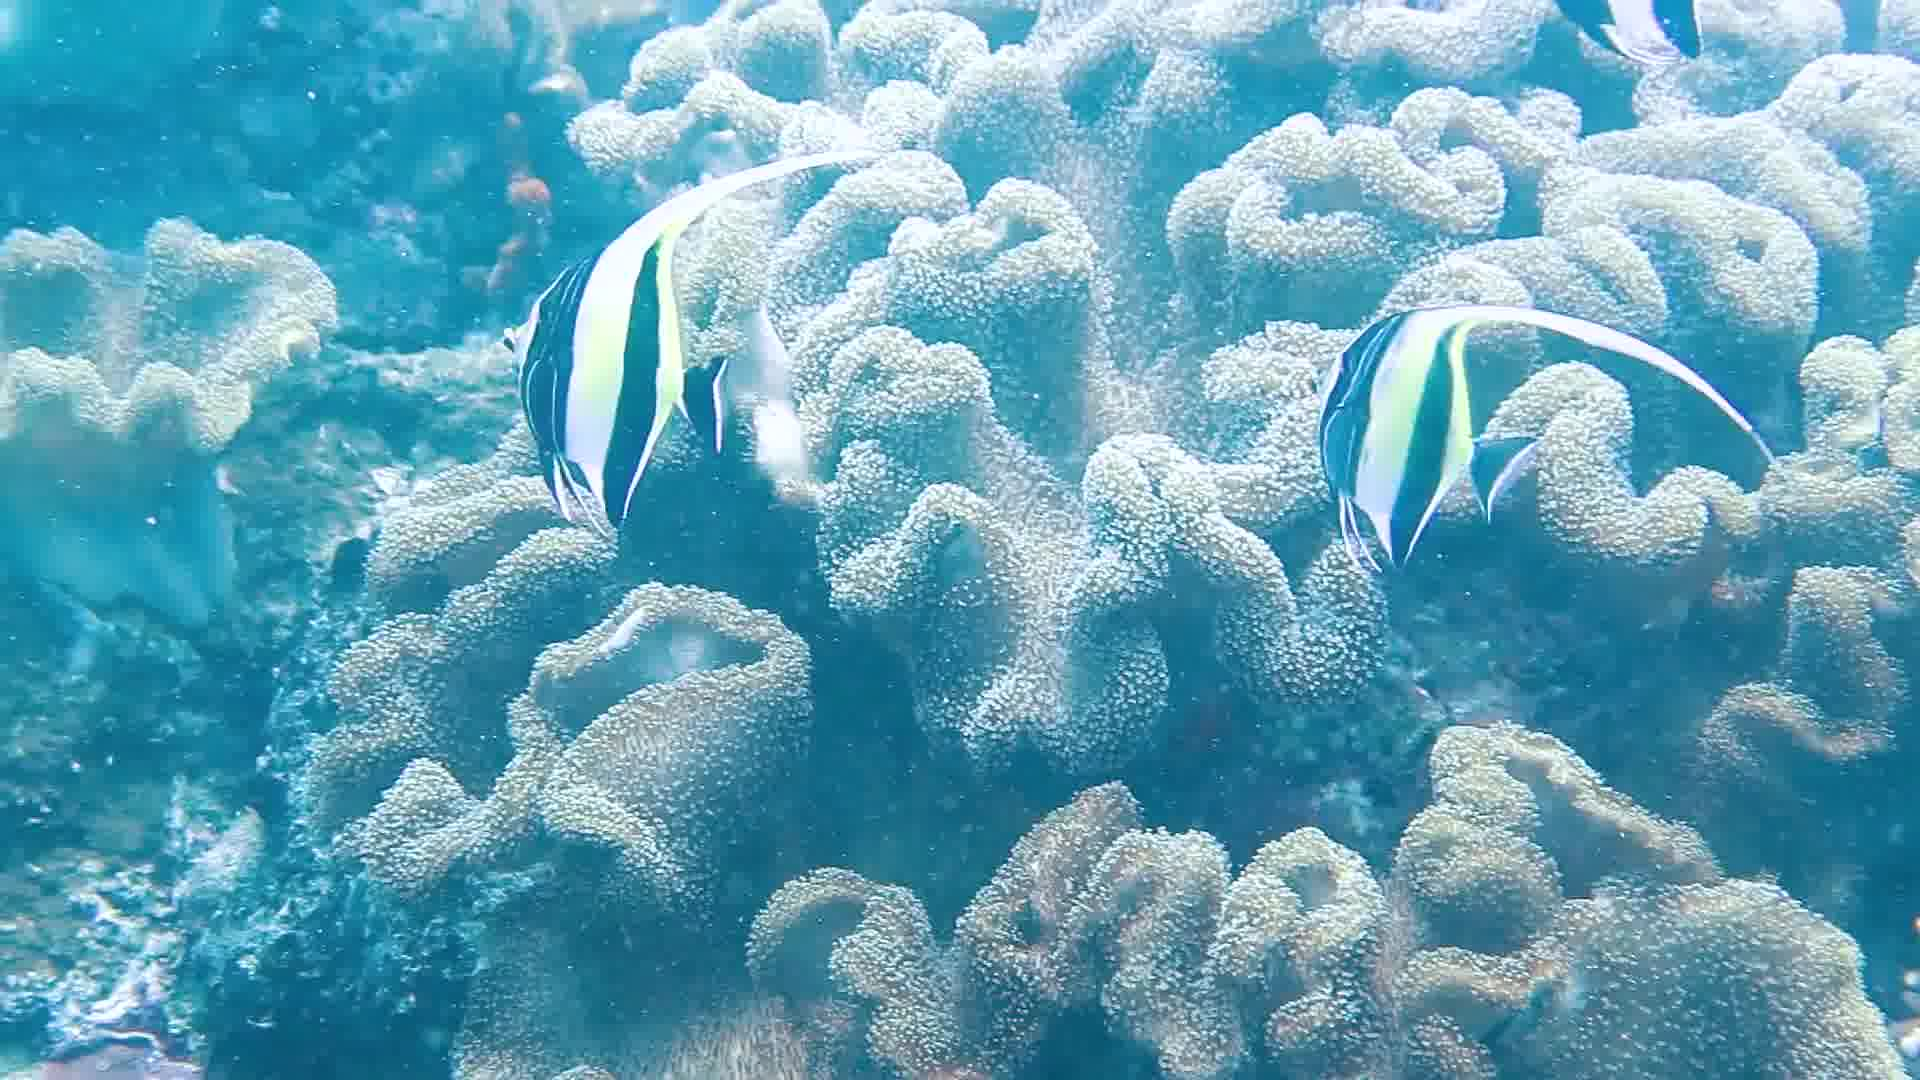Zanclus cornutus: (1267, 301, 1548, 583), (481, 233, 762, 516)
